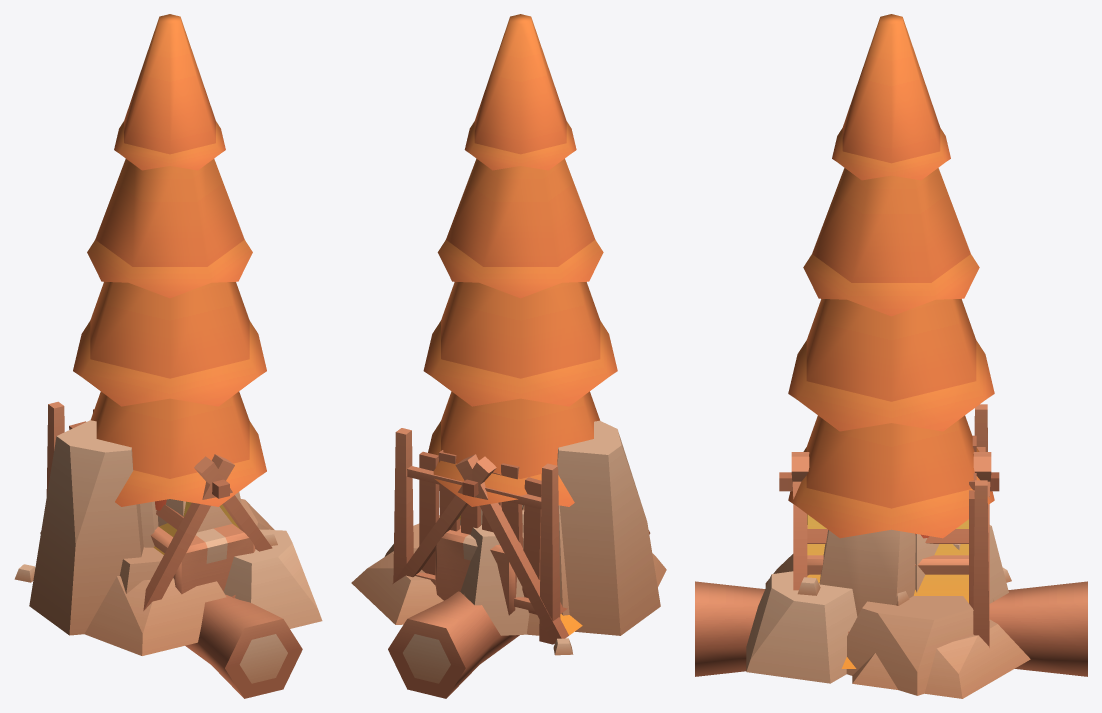
The model's file is survival.glb.
The picture shows the model from 3 angles, left to right: view 1: azimuth 30°, elevation 25°; view 2: azimuth 150°, elevation 25°; view 3: azimuth 270°, elevation 25°; orthographic projection. The views are drawn at different scales.
Parts seen in each view (by area): view 1: tree-autumn-tall~0, rock-sand-c~0, tree-autumn~0, rock-sand-b~0, tree-log~0, tent-canvas~0, box-large~0, fence-fortified~0, rock-sand-a~0; view 2: tree-autumn-tall~0, rock-sand-c~0, fence-fortified~0, tree-autumn~0, tree-log~0, rock-sand-b~0, tent-canvas~0, box-large~0, rock-sand-a~0; view 3: tree-autumn-tall~0, rock-sand-b~0, tree-autumn~0, tree-log~0, rock-sand-c~0, tent-canvas~0, fence-fortified~0, box-large~0.
Part boxes in pixels (x1,y1,x2,y2): tree-autumn-tall~0: (73, 14, 266, 406); rock-sand-c~0: (14, 420, 274, 635); tree-autumn~0: (90, 391, 266, 506); rock-sand-b~0: (84, 492, 322, 655); tree-log~0: (40, 531, 302, 698); tent-canvas~0: (143, 454, 272, 610); box-large~0: (150, 524, 255, 594); fence-fortified~0: (46, 401, 94, 496); rock-sand-a~0: (140, 501, 158, 547); tree-autumn-tall~0: (423, 14, 617, 406); rock-sand-c~0: (384, 420, 660, 655); fence-fortified~0: (393, 428, 560, 644); tree-autumn~0: (428, 391, 599, 506); tree-log~0: (388, 530, 650, 698); rock-sand-b~0: (351, 520, 666, 635); tent-canvas~0: (392, 454, 582, 644); box-large~0: (435, 525, 516, 615); rock-sand-a~0: (522, 505, 569, 615); tree-autumn-tall~0: (788, 14, 994, 431); rock-sand-b~0: (746, 525, 1030, 698); tree-autumn~0: (788, 415, 994, 538); tree-log~0: (695, 581, 1087, 676); rock-sand-c~0: (846, 534, 1011, 695); tent-canvas~0: (779, 452, 999, 668); fence-fortified~0: (969, 404, 989, 645); box-large~0: (807, 525, 968, 575).
Size of the model in its own units: 0.802 by 1.82 by 1.
Materials: 1 (1 with a texture image).
